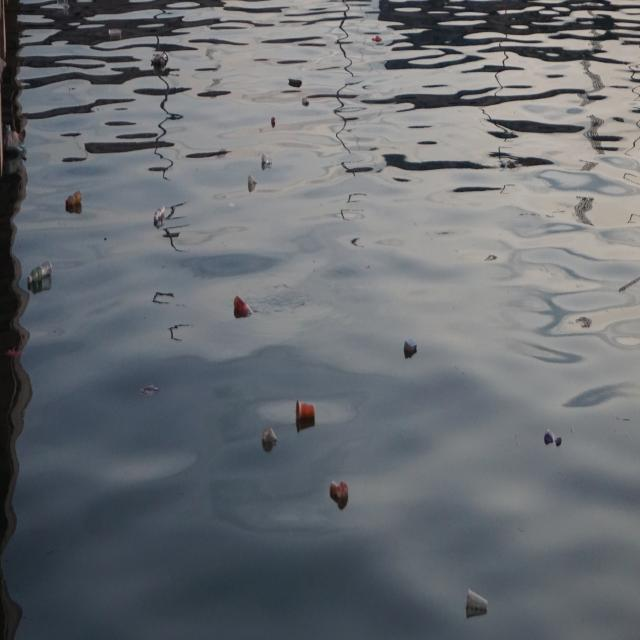Botol Plastik: (24, 259, 57, 295), (234, 289, 258, 327), (62, 184, 87, 220), (149, 198, 169, 236)
Bungkus Minuman: (322, 473, 354, 518), (463, 586, 491, 625), (296, 395, 319, 431), (260, 142, 275, 176)
